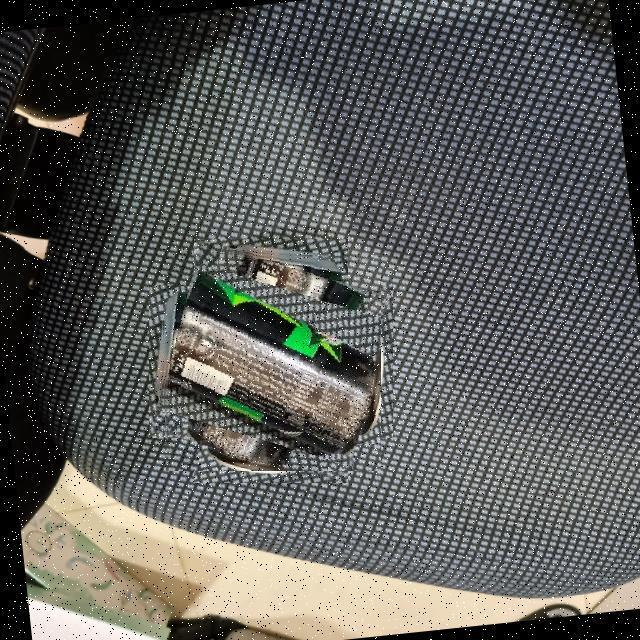recyclable: (161, 251, 381, 471)
